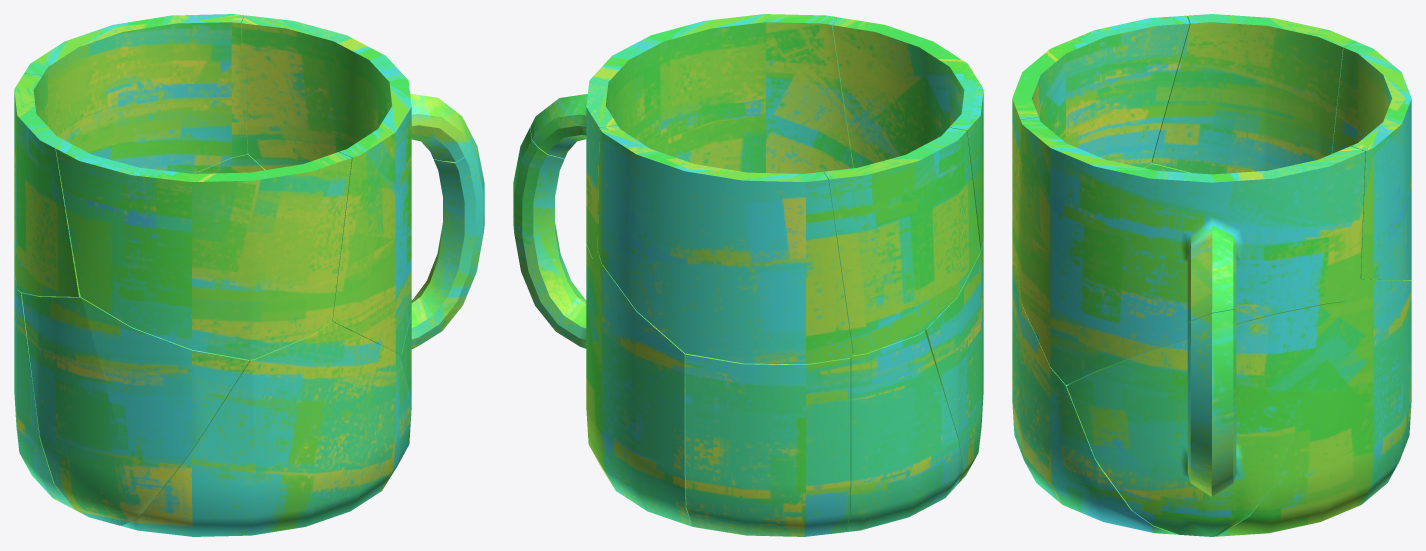
Rendered from JadeMug.obj.
3 views of the same model, side by side, from view 1: azimuth 30°, elevation 25°; view 2: azimuth 150°, elevation 25°; view 3: azimuth 270°, elevation 25° (orthographic).
Visible parts, largest first — view 1: JadeMug_cell.007, JadeMug_cell, JadeMug_cell.003, JadeMug_cell.002, JadeMug_cell.008, JadeMug_cell.001, JadeMug_cell.004, JadeMug_cell.009, JadeMug_cell.006; view 2: JadeMug_cell.008, JadeMug_cell.003, JadeMug_cell.005, JadeMug_cell.001, JadeMug_cell.006, JadeMug_cell.009, JadeMug_cell.007, JadeMug_cell.004, JadeMug_cell.002; view 3: JadeMug_cell.003, JadeMug_cell.004, JadeMug_cell.001, JadeMug_cell.006, JadeMug_cell.007, JadeMug_cell.008, JadeMug_cell.
Boxes of the visible parts, <box> form: JadeMug_cell.007: <box>56,143,351,359</box>; JadeMug_cell: <box>121,321,411,536</box>; JadeMug_cell.003: <box>241,15,470,353</box>; JadeMug_cell.002: <box>21,293,249,525</box>; JadeMug_cell.008: <box>24,14,247,173</box>; JadeMug_cell.001: <box>14,73,80,296</box>; JadeMug_cell.004: <box>334,127,484,398</box>; JadeMug_cell.009: <box>14,269,74,509</box>; JadeMug_cell.006: <box>193,152,333,321</box>; JadeMug_cell.008: <box>597,125,853,364</box>; JadeMug_cell.003: <box>530,14,853,258</box>; JadeMug_cell.005: <box>685,353,850,536</box>; JadeMug_cell.001: <box>824,127,980,355</box>; JadeMug_cell.006: <box>586,251,692,526</box>; JadeMug_cell.009: <box>846,331,962,531</box>; JadeMug_cell.007: <box>832,17,983,249</box>; JadeMug_cell.004: <box>513,127,592,348</box>; JadeMug_cell.002: <box>925,242,983,483</box>; JadeMug_cell.003: <box>1016,117,1365,384</box>; JadeMug_cell.004: <box>1066,302,1345,536</box>; JadeMug_cell.001: <box>1151,14,1356,174</box>; JadeMug_cell.006: <box>1216,279,1411,536</box>; JadeMug_cell.007: <box>1012,15,1189,264</box>; JadeMug_cell.008: <box>1332,42,1411,280</box>; JadeMug_cell: <box>1012,262,1177,534</box>.
Size of the model in its own units: 1.33 by 1.03 by 1.04.
